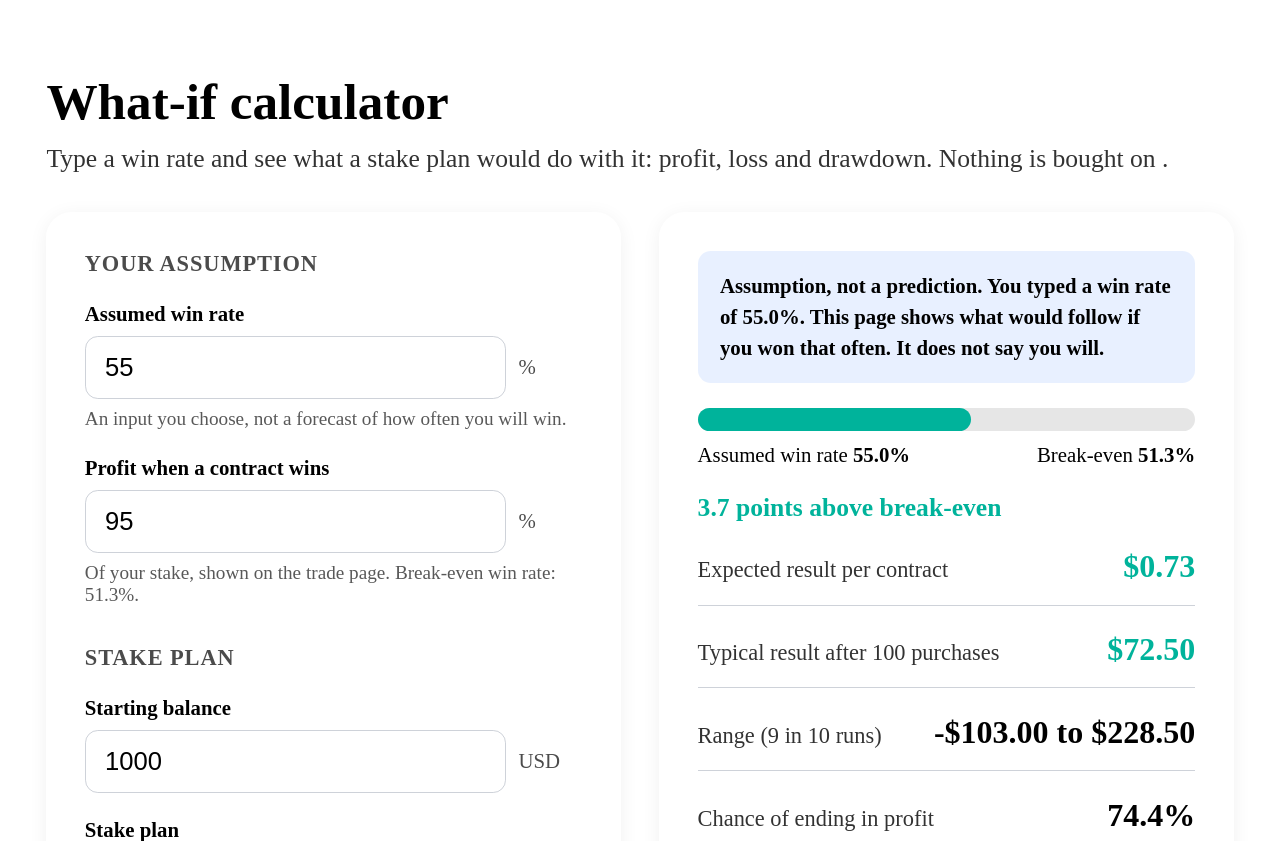
Test case: <WhatIfCalculator /> › warns when the assumed win rate is below break-even
Replace the text in the number field with test id "dt_whatif_win_rate" with "40" at (295,367), box [85, 336, 506, 399]
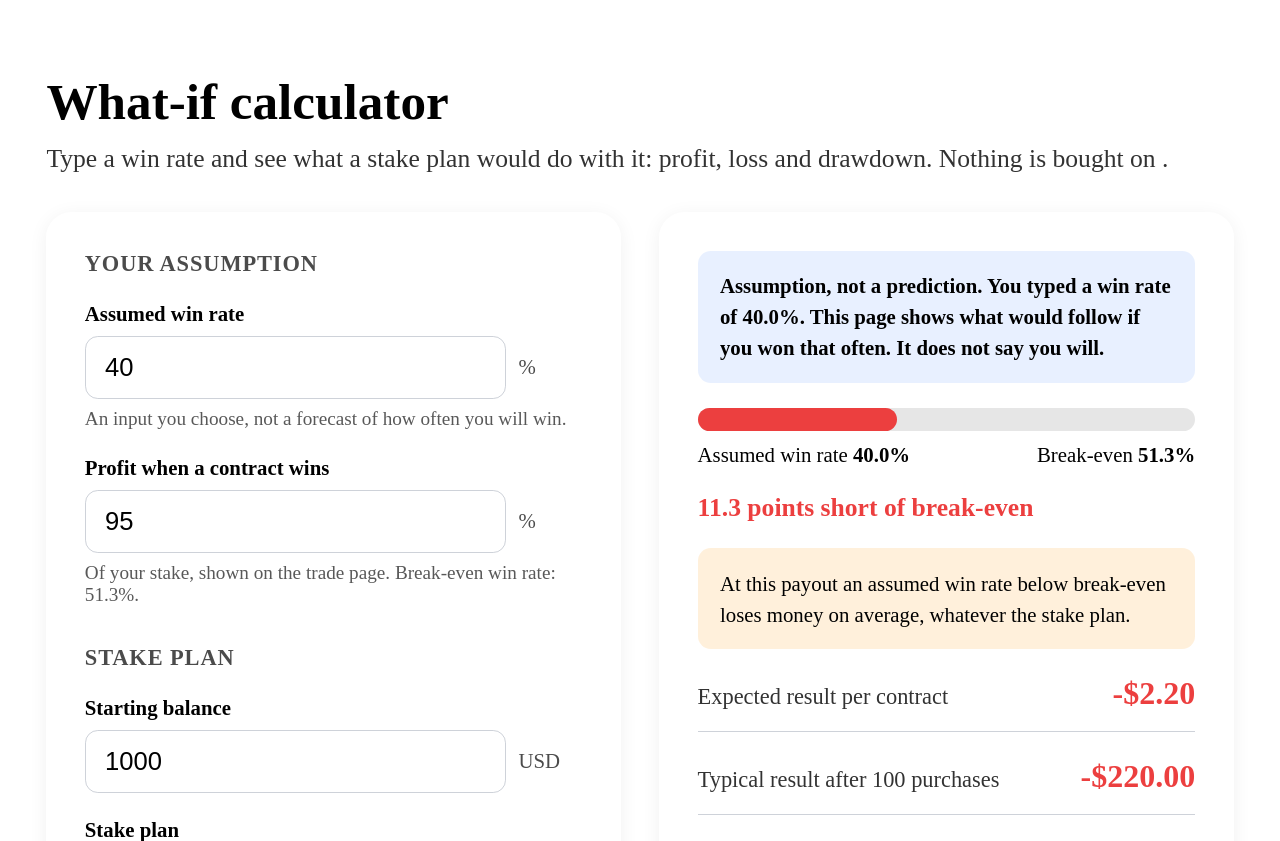
Result: the text with test id "dt_whatif_verdict" reads "11.3 points short of break-even" at [698, 493, 1033, 522]
Result: the text with test id "dt_whatif_below" is shown at [698, 548, 1195, 649]
